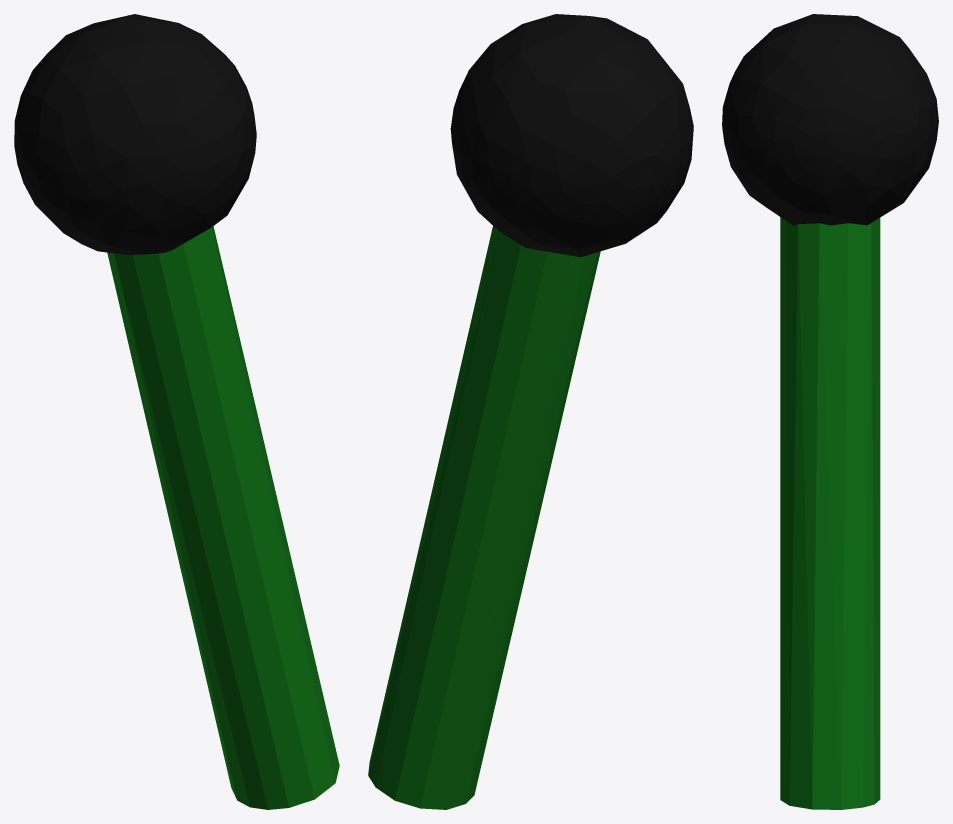
Rendered from Hebel.fbx.
3 renders of one model, left to right at view 1: azimuth 30°, elevation 25°; view 2: azimuth 150°, elevation 25°; view 3: azimuth 270°, elevation 25°, orthographic. The views are drawn at different scales.
Parts seen in each view (by area): view 1: Cylinder; view 2: Cylinder; view 3: Cylinder.
Boxes of the visible parts, left/top/right/bottom form: Cylinder: left=14, top=14, right=339, bottom=809; Cylinder: left=368, top=14, right=693, bottom=809; Cylinder: left=722, top=14, right=938, bottom=809.
Bounding box in the file's own units: 5.38 × 13.67 × 3.73.
